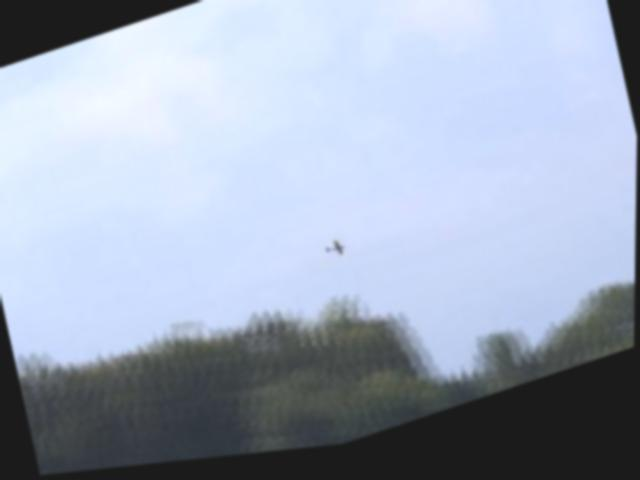uav: (319, 239, 351, 270)
